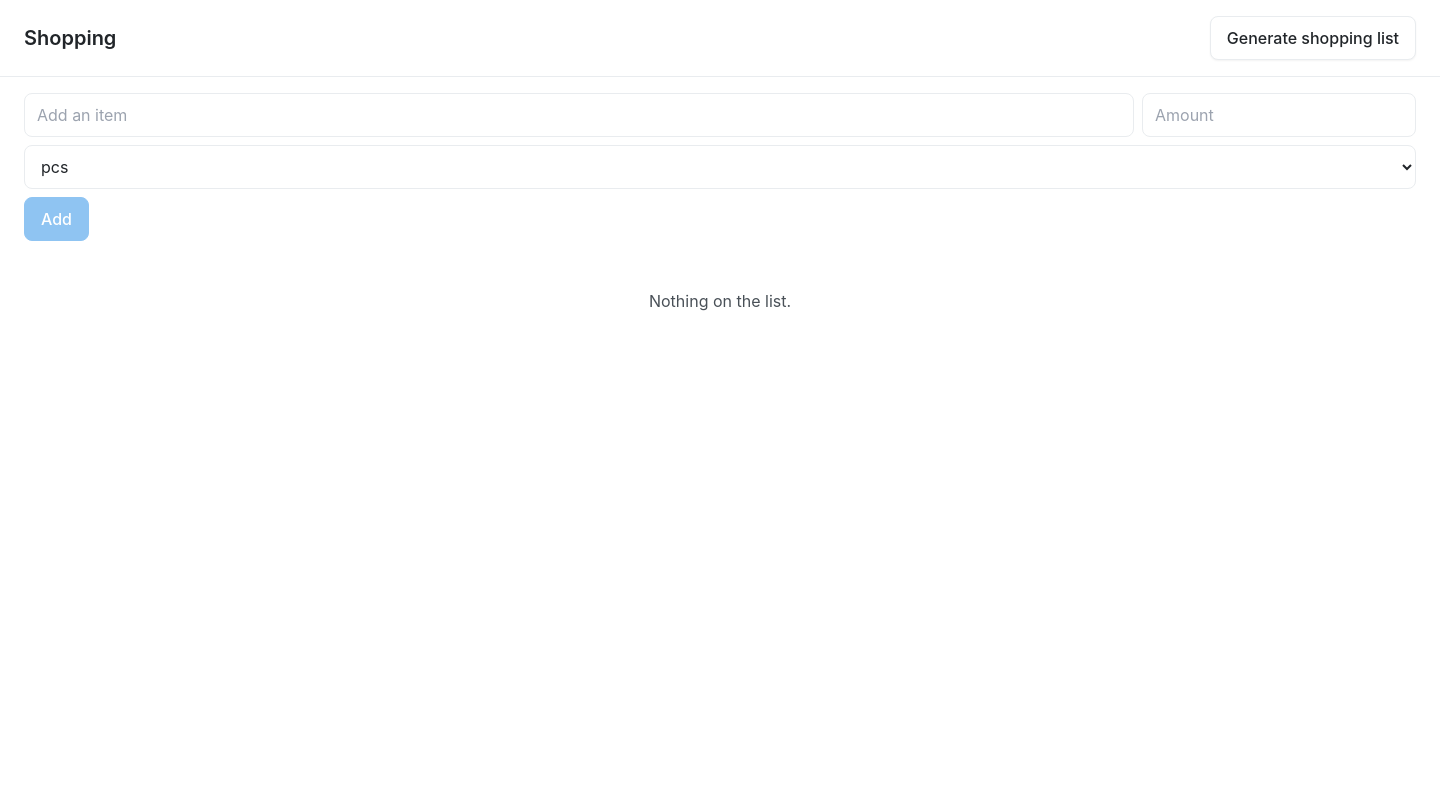
Test: The Shopping screen › opens the generate sheet
Expected: the text "Nothing on the list." is shown, [649,291,791,311]
Click the button "Generate shopping list". click: (1313, 38)
box: [1210,16,1416,60]
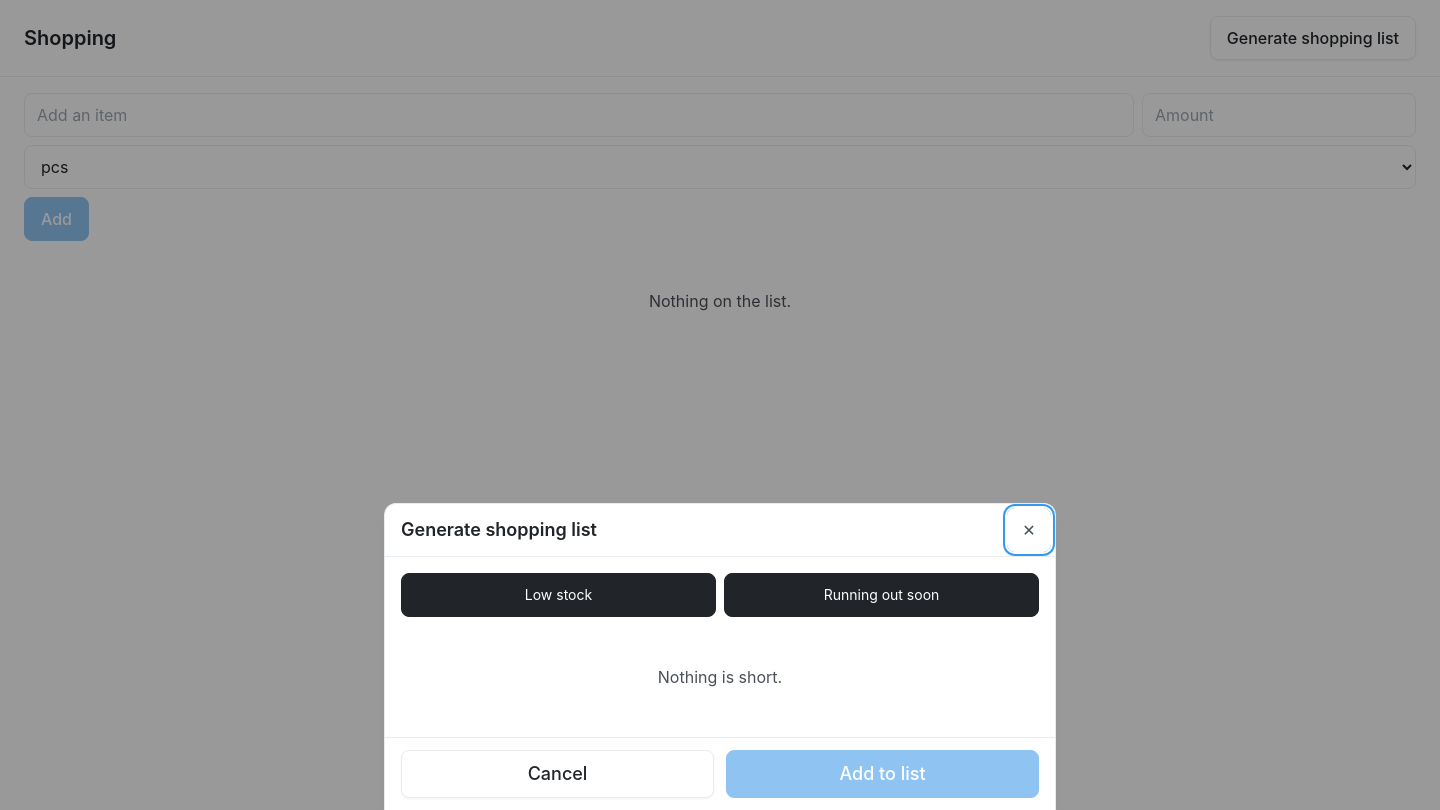
Expected: the dialog "Generate shopping list" is shown, [384,503,1056,809]
